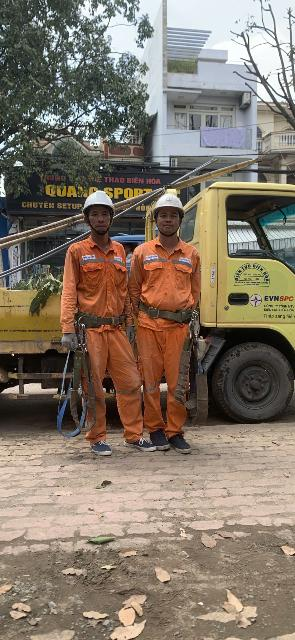gloves: (54, 331, 89, 350), (123, 326, 142, 342)
harness: (139, 297, 204, 333), (66, 305, 137, 330)
helmet: (146, 184, 200, 223), (76, 186, 118, 218)
shoes: (166, 428, 197, 457), (86, 436, 119, 458), (146, 424, 172, 451), (128, 426, 151, 451)
